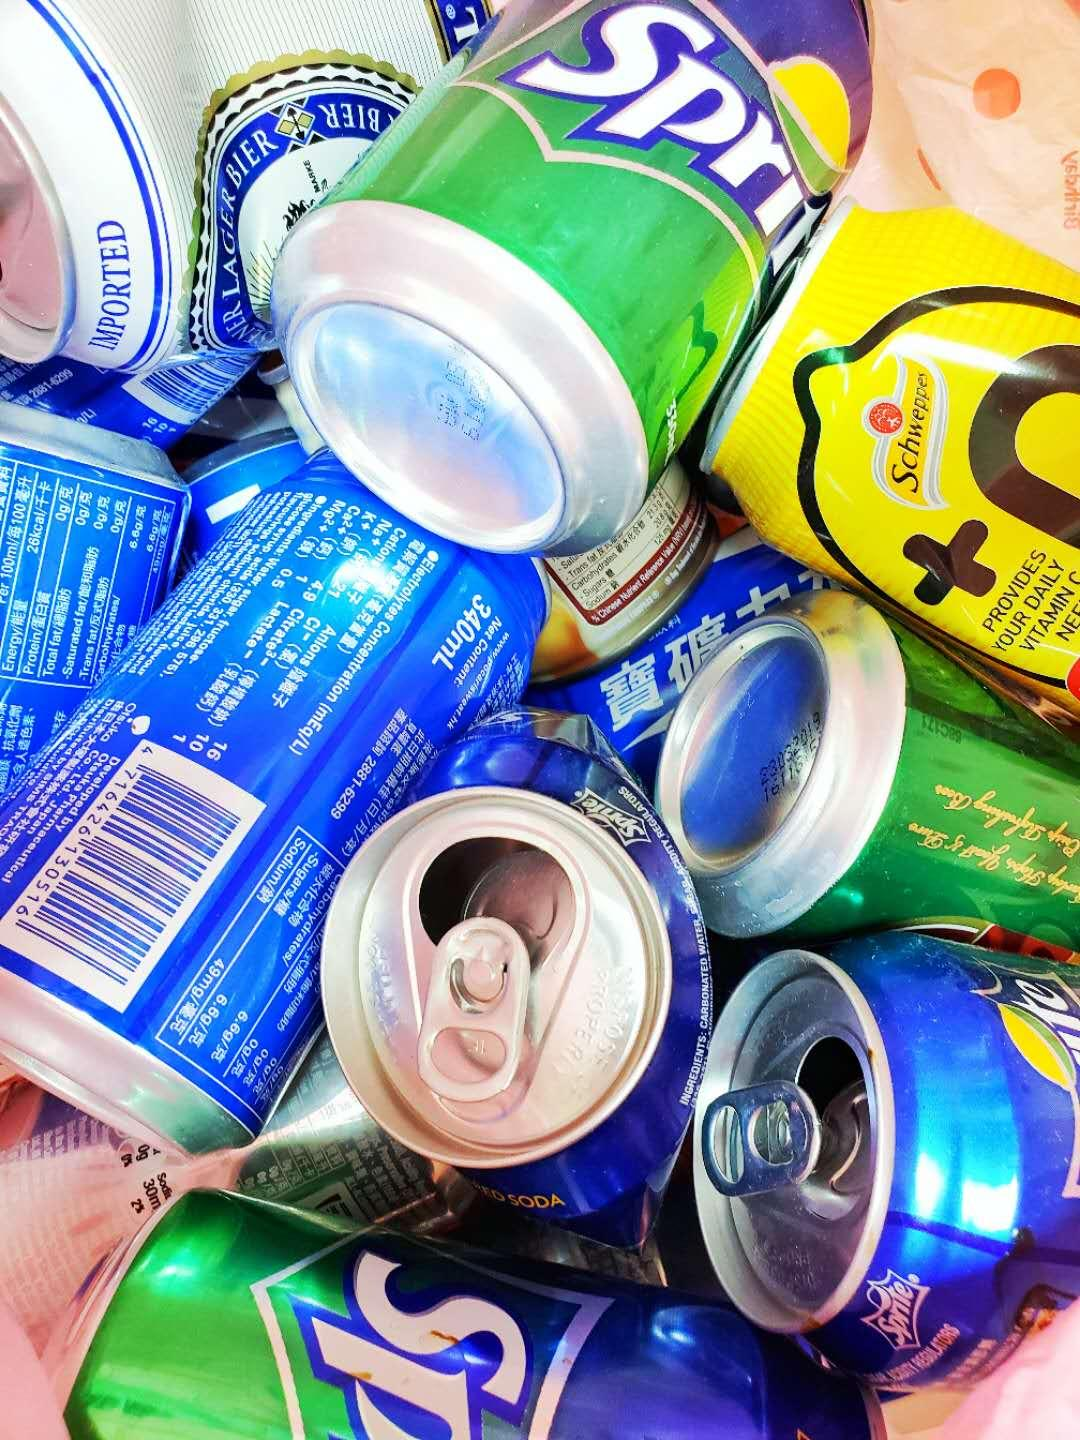metal: (0, 398, 692, 1212), (258, 0, 880, 550), (648, 598, 1080, 1380), (270, 5, 880, 554), (48, 1170, 891, 1438), (708, 190, 1080, 735), (0, 0, 520, 347)
